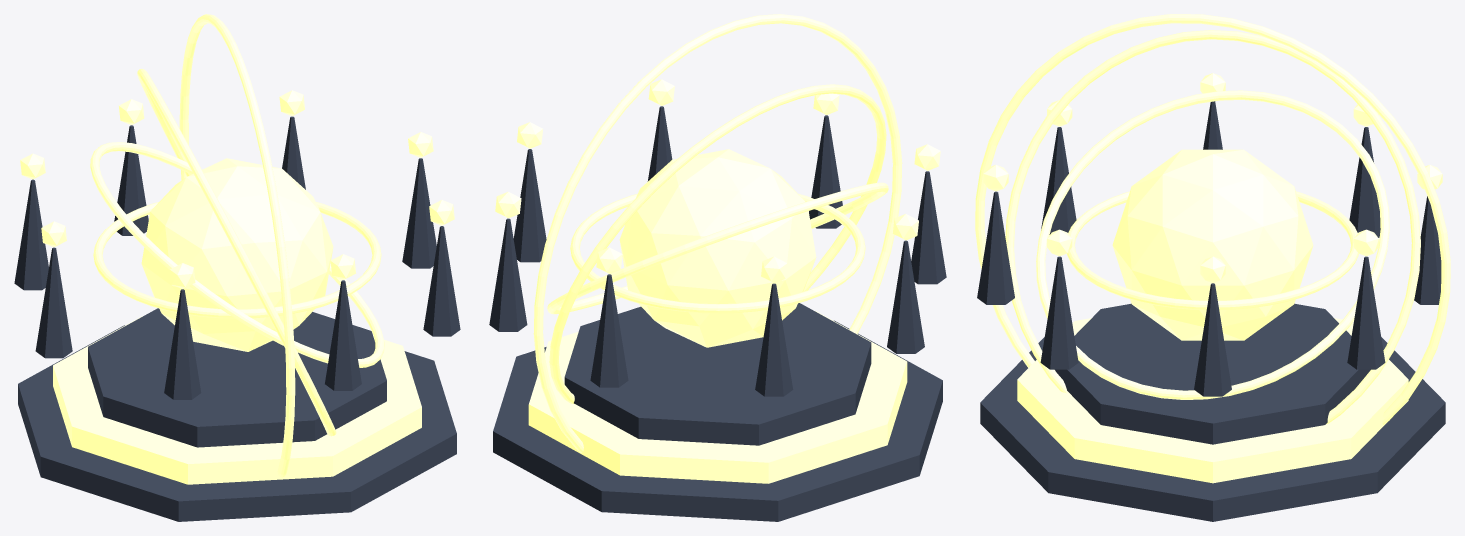
Rendered from gpu-blender-v17.glb.
The picture shows the model from 3 angles, left to right: view 1: azimuth 30°, elevation 25°; view 2: azimuth 150°, elevation 25°; view 3: azimuth 270°, elevation 25°; orthographic projection. The views are drawn at different scales.
Parts seen in each view (by area): view 1: Cylinder.002, SovereignCore_pod-smart-router, Cylinder, Cylinder.001, Torus.003, Torus.001, Torus.002, Torus, Cone.004, Cone.007, Cone.005, Cone.006 (+12 smaller); view 2: Cylinder.002, SovereignCore_pod-smart-router, Cylinder, Cylinder.001, Torus.003, Torus.002, Torus.001, Torus, Cone.002, Cone.003, Cone.001, Cone.004 (+11 smaller); view 3: SovereignCore_pod-smart-router, Cylinder.002, Cylinder, Cylinder.001, Torus.003, Torus.002, Torus.001, Torus, Cone, Cone.001, Cone.007, Cone.006 (+8 smaller).
Boxes of the visible parts, bbox=[...] form: Cylinder.002: bbox=[88, 308, 386, 447]; SovereignCore_pod-smart-router: bbox=[141, 158, 333, 351]; Cylinder: bbox=[18, 325, 456, 521]; Cylinder.001: bbox=[53, 316, 421, 484]; Torus.003: bbox=[179, 14, 295, 477]; Torus.001: bbox=[90, 142, 384, 367]; Torus.002: bbox=[137, 69, 336, 436]; Torus: bbox=[93, 202, 381, 318]; Cone.004: bbox=[35, 247, 72, 358]; Cone.007: bbox=[423, 226, 460, 336]; Cone.005: bbox=[164, 289, 201, 399]; Cone.006: bbox=[325, 280, 361, 390]; Cylinder.002: bbox=[564, 303, 871, 445]; SovereignCore_pod-smart-router: bbox=[619, 149, 816, 347]; Cylinder: bbox=[493, 320, 942, 521]; Cylinder.001: bbox=[528, 311, 907, 483]; Torus.003: bbox=[533, 14, 902, 452]; Torus.002: bbox=[549, 84, 886, 403]; Torus.001: bbox=[547, 182, 888, 314]; Torus: bbox=[570, 193, 865, 313]; Cone.002: bbox=[590, 274, 628, 387]; Cone.003: bbox=[755, 283, 793, 396]; Cone.001: bbox=[489, 218, 527, 331]; Cone.004: bbox=[887, 240, 924, 353]; SovereignCore_pod-smart-router: bbox=[1112, 149, 1313, 340]; Cylinder.002: bbox=[1055, 303, 1370, 444]; Cylinder: bbox=[980, 337, 1445, 521]; Cylinder.001: bbox=[1017, 318, 1408, 483]; Torus.003: bbox=[975, 14, 1450, 424]; Torus.002: bbox=[1005, 30, 1420, 423]; Torus.001: bbox=[1036, 90, 1389, 399]; Torus: bbox=[1067, 191, 1358, 310]; Cone: bbox=[1194, 283, 1231, 396]; Cone.001: bbox=[1347, 256, 1385, 369]; Cone.007: bbox=[1040, 256, 1078, 369]; Cone.006: bbox=[977, 191, 1014, 304].
Bounding box in the file's own units: 4.41 × 4.7 × 4.49.
